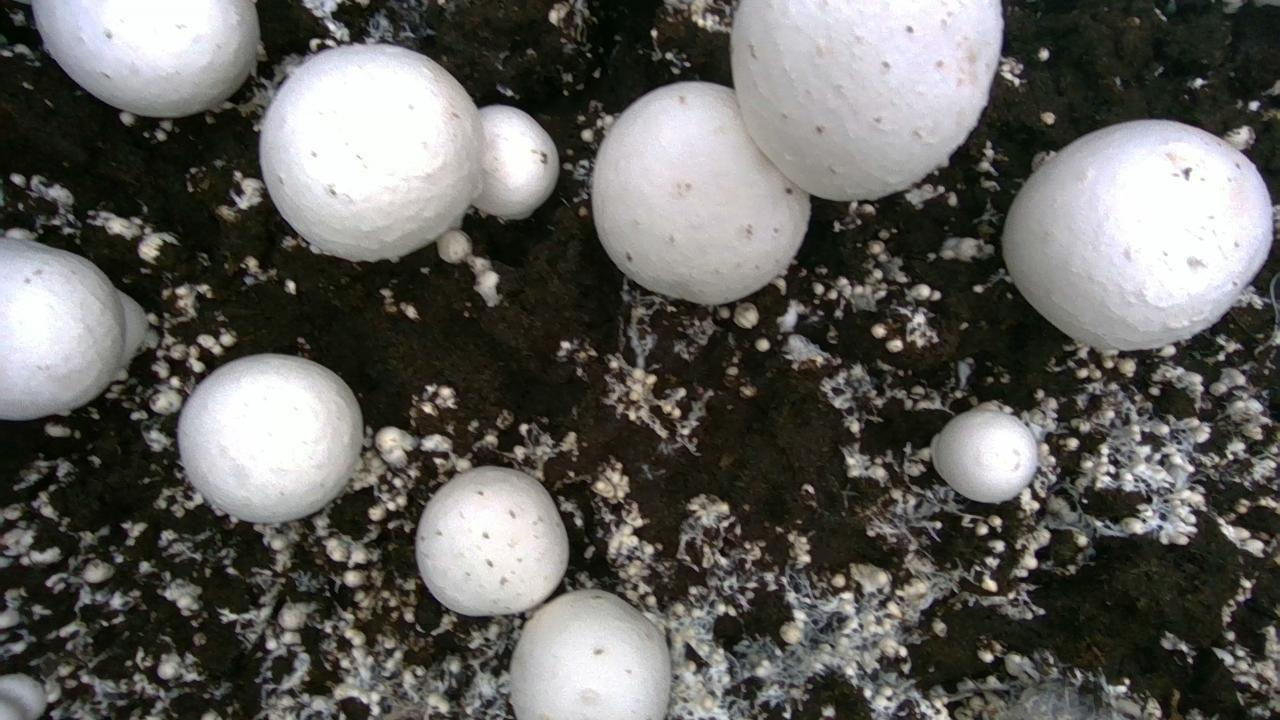WB: (1002, 120, 1272, 349), (731, 0, 1002, 200), (260, 44, 483, 261), (592, 82, 809, 304), (178, 354, 362, 522), (32, 0, 259, 117), (415, 466, 568, 615), (0, 237, 123, 420), (510, 590, 670, 719), (930, 408, 1037, 503), (472, 105, 559, 219)
